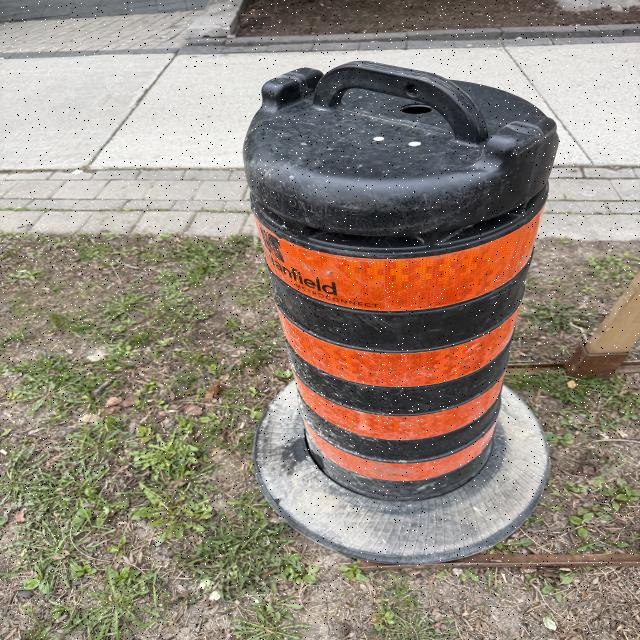Teraffic Barrel: (244, 62, 557, 562)
